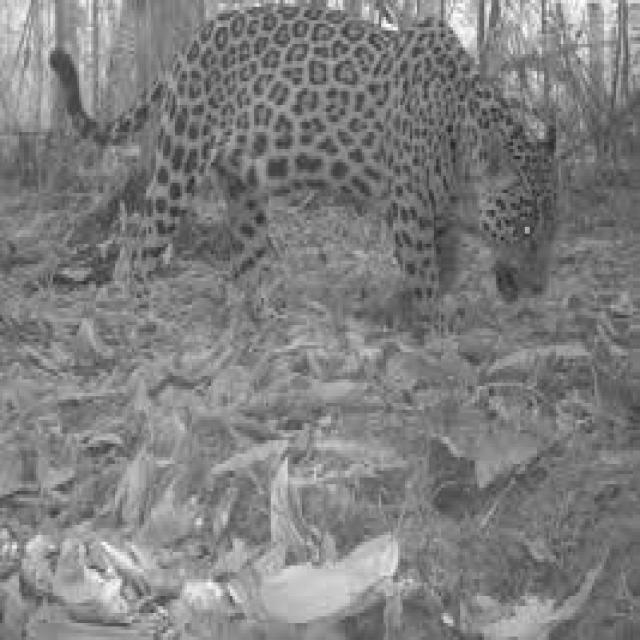Jaguar: (33, 0, 573, 308)
